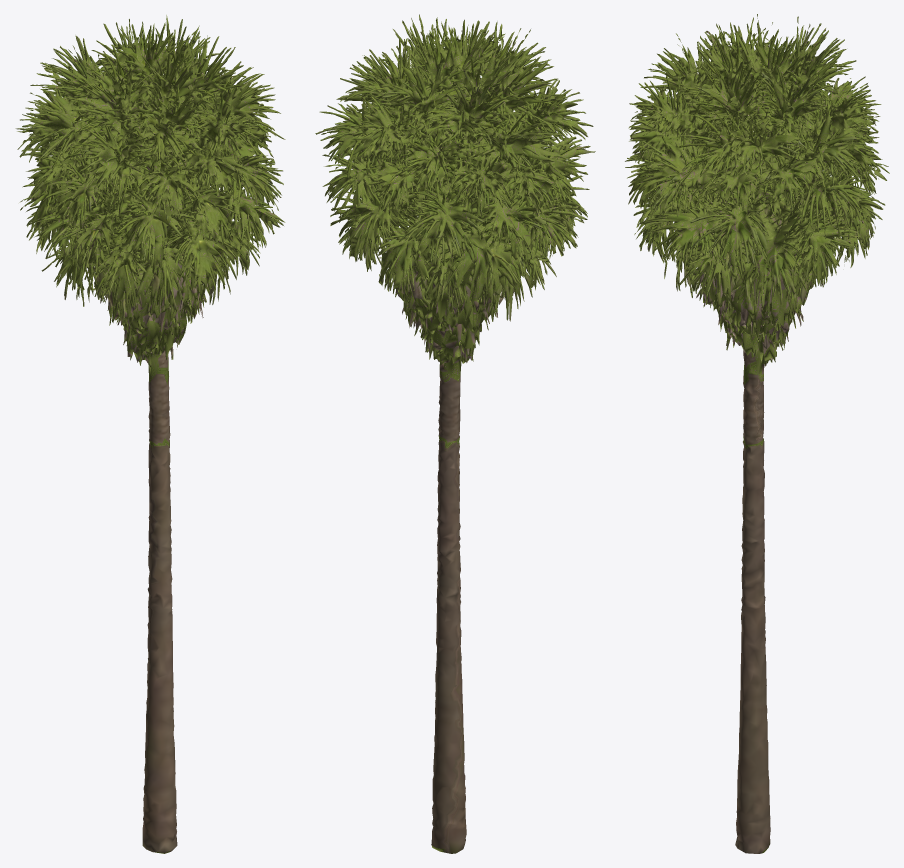
The model's file is lagoon_a.glb.
3 views of the same model, side by side, from view 1: azimuth 30°, elevation 25°; view 2: azimuth 150°, elevation 25°; view 3: azimuth 270°, elevation 25° (orthographic).
Size of the model in its own units: 0.6033 by 2 by 0.5931.
1 material, 1 textured.
